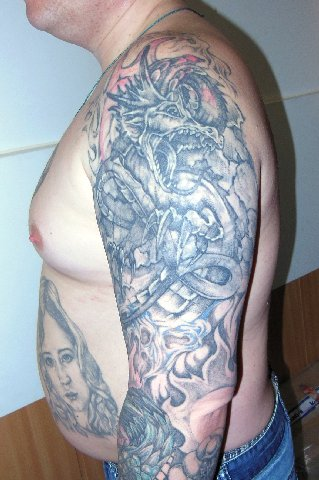tatu6_drakon: (88, 30, 256, 480)
